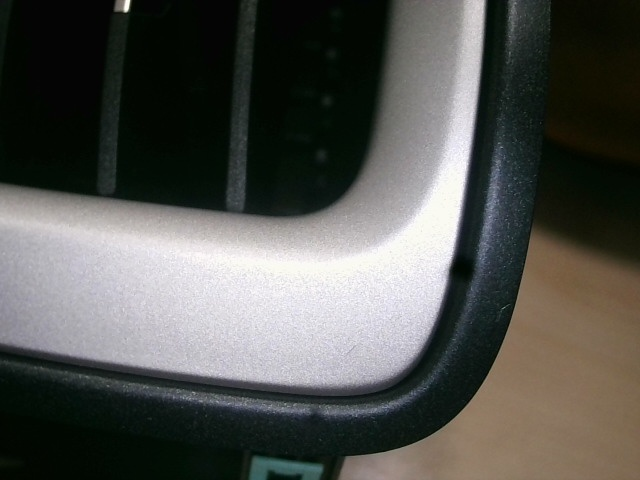NG: (342, 339, 363, 365), (497, 296, 515, 324)
